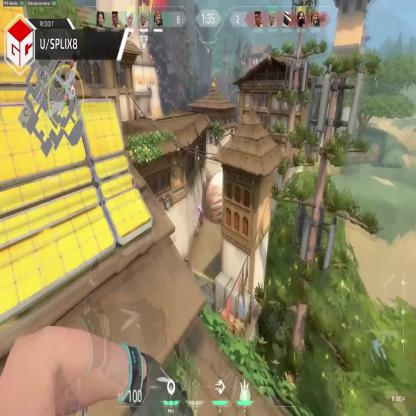enemy: (198, 206, 203, 226)
enemy_head: (198, 205, 202, 210)
